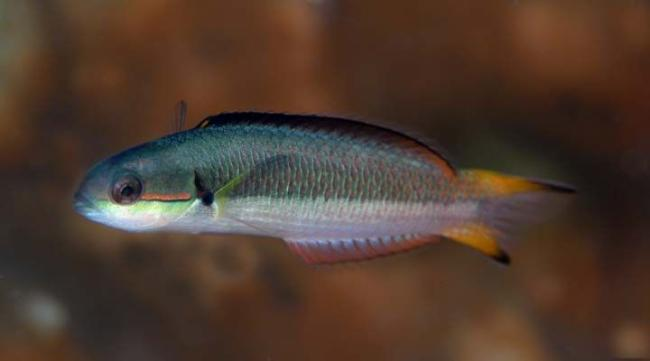fish: (72, 100, 578, 270)
